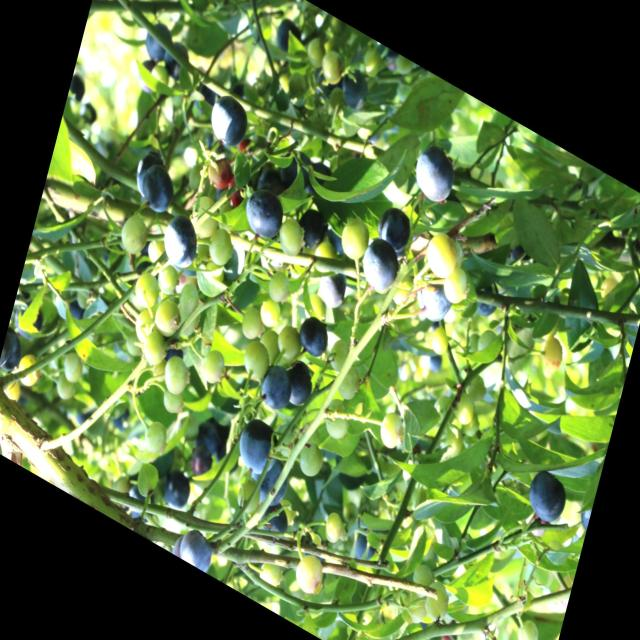blueberry: (408, 136, 462, 214), (232, 412, 281, 482), (524, 462, 574, 530), (410, 265, 459, 331), (241, 179, 289, 246), (357, 232, 403, 300), (205, 86, 251, 152), (159, 208, 203, 274), (254, 357, 297, 422), (172, 515, 219, 574), (249, 451, 292, 513), (372, 198, 416, 258), (253, 492, 296, 553), (119, 474, 159, 534), (280, 356, 317, 416), (294, 308, 334, 362), (313, 260, 350, 317), (139, 162, 177, 217), (309, 54, 347, 109), (278, 145, 316, 198), (336, 63, 373, 117), (293, 203, 330, 257), (10, 294, 47, 346), (157, 463, 193, 516), (140, 17, 173, 66), (254, 166, 290, 210), (160, 36, 193, 83), (134, 53, 166, 101), (472, 276, 503, 325), (0, 325, 29, 376), (349, 528, 381, 570), (193, 415, 223, 458), (274, 15, 302, 58), (109, 397, 137, 439), (159, 333, 187, 374), (186, 441, 213, 481), (508, 236, 534, 270), (65, 294, 90, 325), (68, 72, 88, 104), (428, 347, 447, 376), (80, 101, 100, 128)
blueberry-halfripe: (203, 151, 236, 195)
blueberry-unripe: (422, 226, 462, 286), (336, 214, 373, 268), (238, 335, 272, 385), (293, 549, 327, 599), (319, 394, 352, 444), (322, 327, 353, 379), (205, 221, 237, 271), (260, 264, 293, 312), (376, 406, 407, 456), (118, 211, 150, 259), (151, 292, 183, 340), (188, 194, 220, 242), (296, 433, 328, 481), (276, 215, 308, 262), (131, 455, 162, 503), (421, 579, 452, 627), (272, 321, 304, 366), (332, 362, 363, 408), (318, 46, 348, 93), (131, 267, 162, 312), (161, 353, 191, 399), (199, 342, 228, 389), (235, 475, 264, 520), (440, 266, 468, 312), (142, 415, 170, 459), (411, 555, 439, 599), (540, 334, 568, 376), (14, 349, 41, 391), (257, 327, 284, 369), (439, 422, 466, 464), (239, 304, 265, 346), (258, 554, 286, 593), (451, 388, 478, 428), (321, 505, 346, 548), (143, 329, 169, 367), (131, 308, 156, 347), (404, 592, 428, 631), (258, 294, 283, 331), (60, 350, 84, 385), (512, 613, 542, 640), (156, 264, 179, 296), (160, 389, 184, 418), (53, 374, 75, 404), (420, 634, 444, 640)
